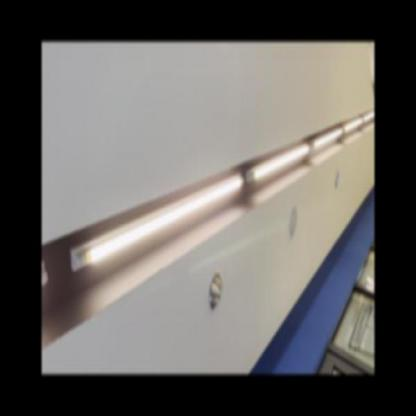light_on: (68, 166, 246, 286), (243, 138, 310, 188), (311, 125, 345, 151), (340, 118, 363, 132), (364, 110, 374, 124)
